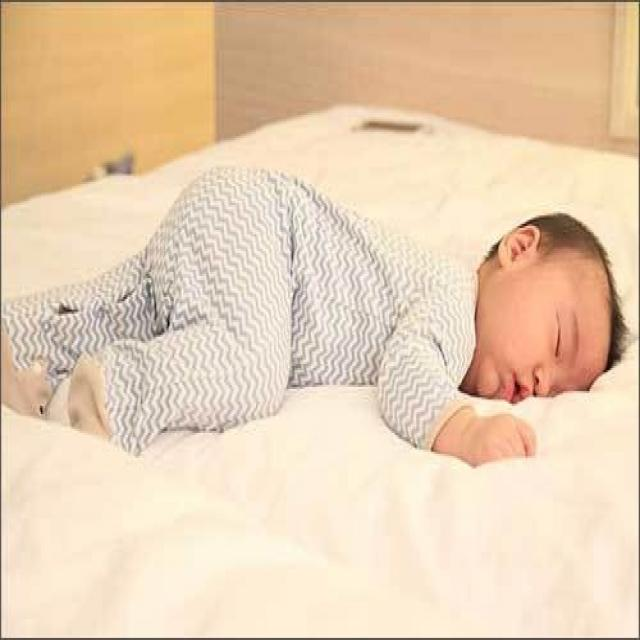people: (2, 145, 632, 477)
